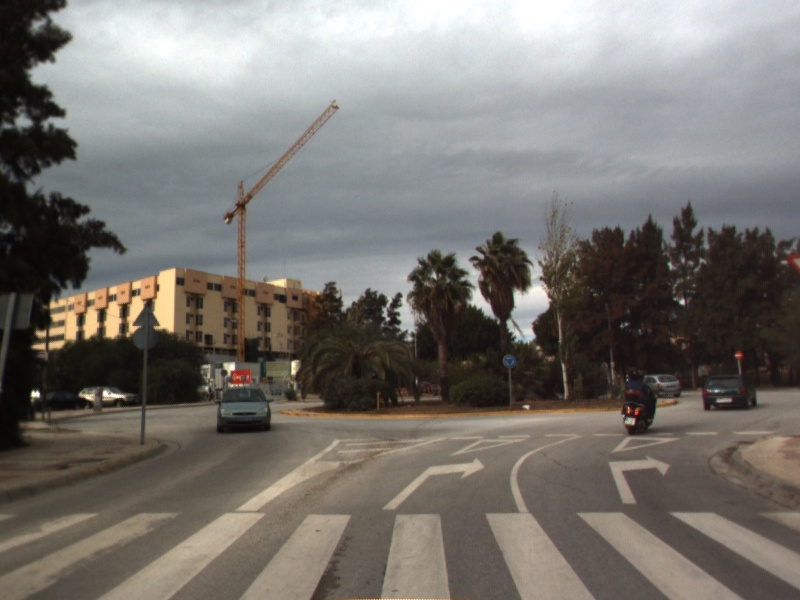RIGHT: (380, 456, 487, 512), (606, 453, 672, 506)
